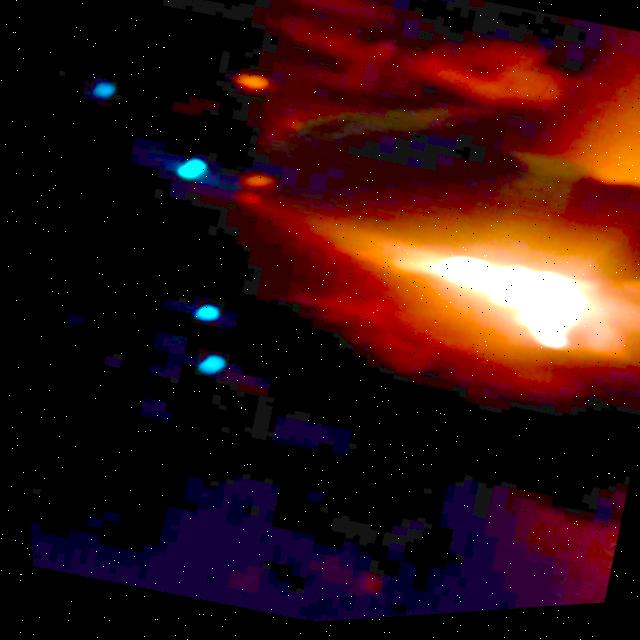Fire: (411, 243, 592, 370)
